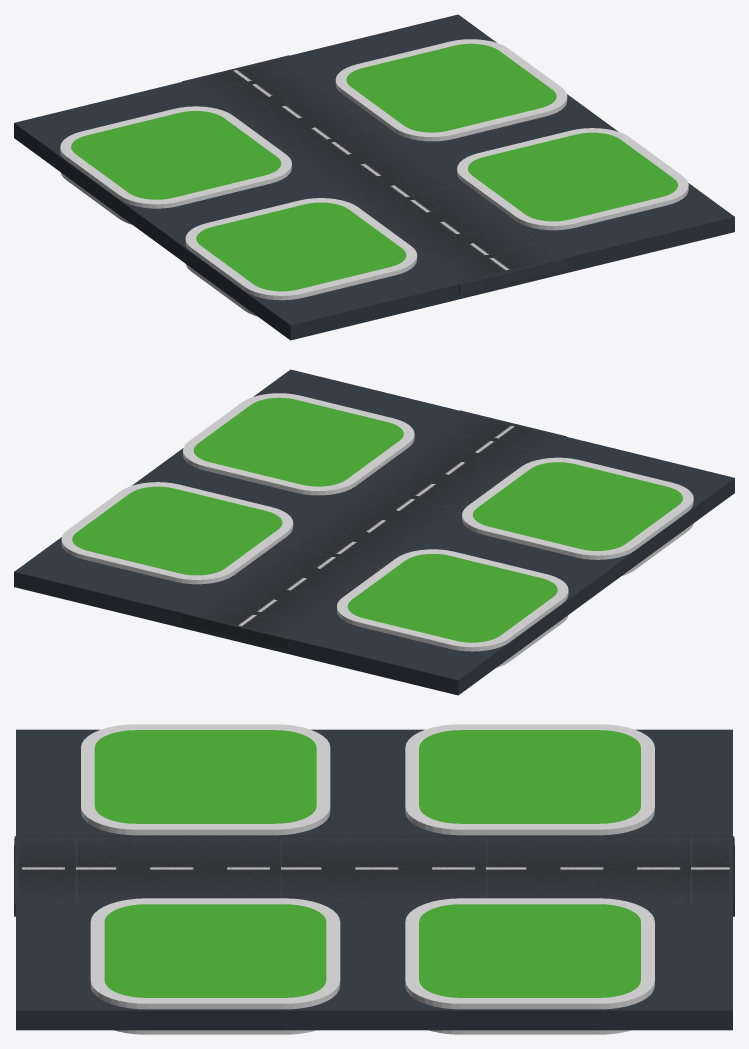
Rendered from sehir.yol.template.fbx.
3 views of the same model, one above another, from view 1: azimuth 30°, elevation 25°; view 2: azimuth 150°, elevation 25°; view 3: azimuth 270°, elevation 25° (orthographic). The views are drawn at different scales.
Visible parts, largest first — view 1: Cube, Cube.007, Cube.002, Cube.003, Cube.004; view 2: Cube, Cube.007, Cube.002, Cube.003, Cube.004; view 3: Cube, Cube.004, Cube.003, Cube.002, Cube.007.
Boxes of the visible parts, bbox=[...] form: Cube: bbox=[14, 14, 734, 340]; Cube.007: bbox=[60, 106, 291, 224]; Cube.002: bbox=[185, 198, 417, 316]; Cube.003: bbox=[335, 39, 567, 141]; Cube.004: bbox=[457, 128, 688, 230]; Cube: bbox=[14, 369, 734, 695]; Cube.007: bbox=[337, 549, 568, 667]; Cube.002: bbox=[462, 457, 693, 575]; Cube.003: bbox=[61, 482, 293, 584]; Cube.004: bbox=[183, 393, 414, 495]; Cube: bbox=[14, 729, 734, 1030]; Cube.004: bbox=[90, 898, 340, 1034]; Cube.003: bbox=[405, 898, 654, 1034]; Cube.002: bbox=[81, 724, 330, 835]; Cube.007: bbox=[405, 724, 654, 835].
Bounding box in the file's own units: 1737 × 89.18 × 1883.
Materials: 6 (5 with a texture image).
